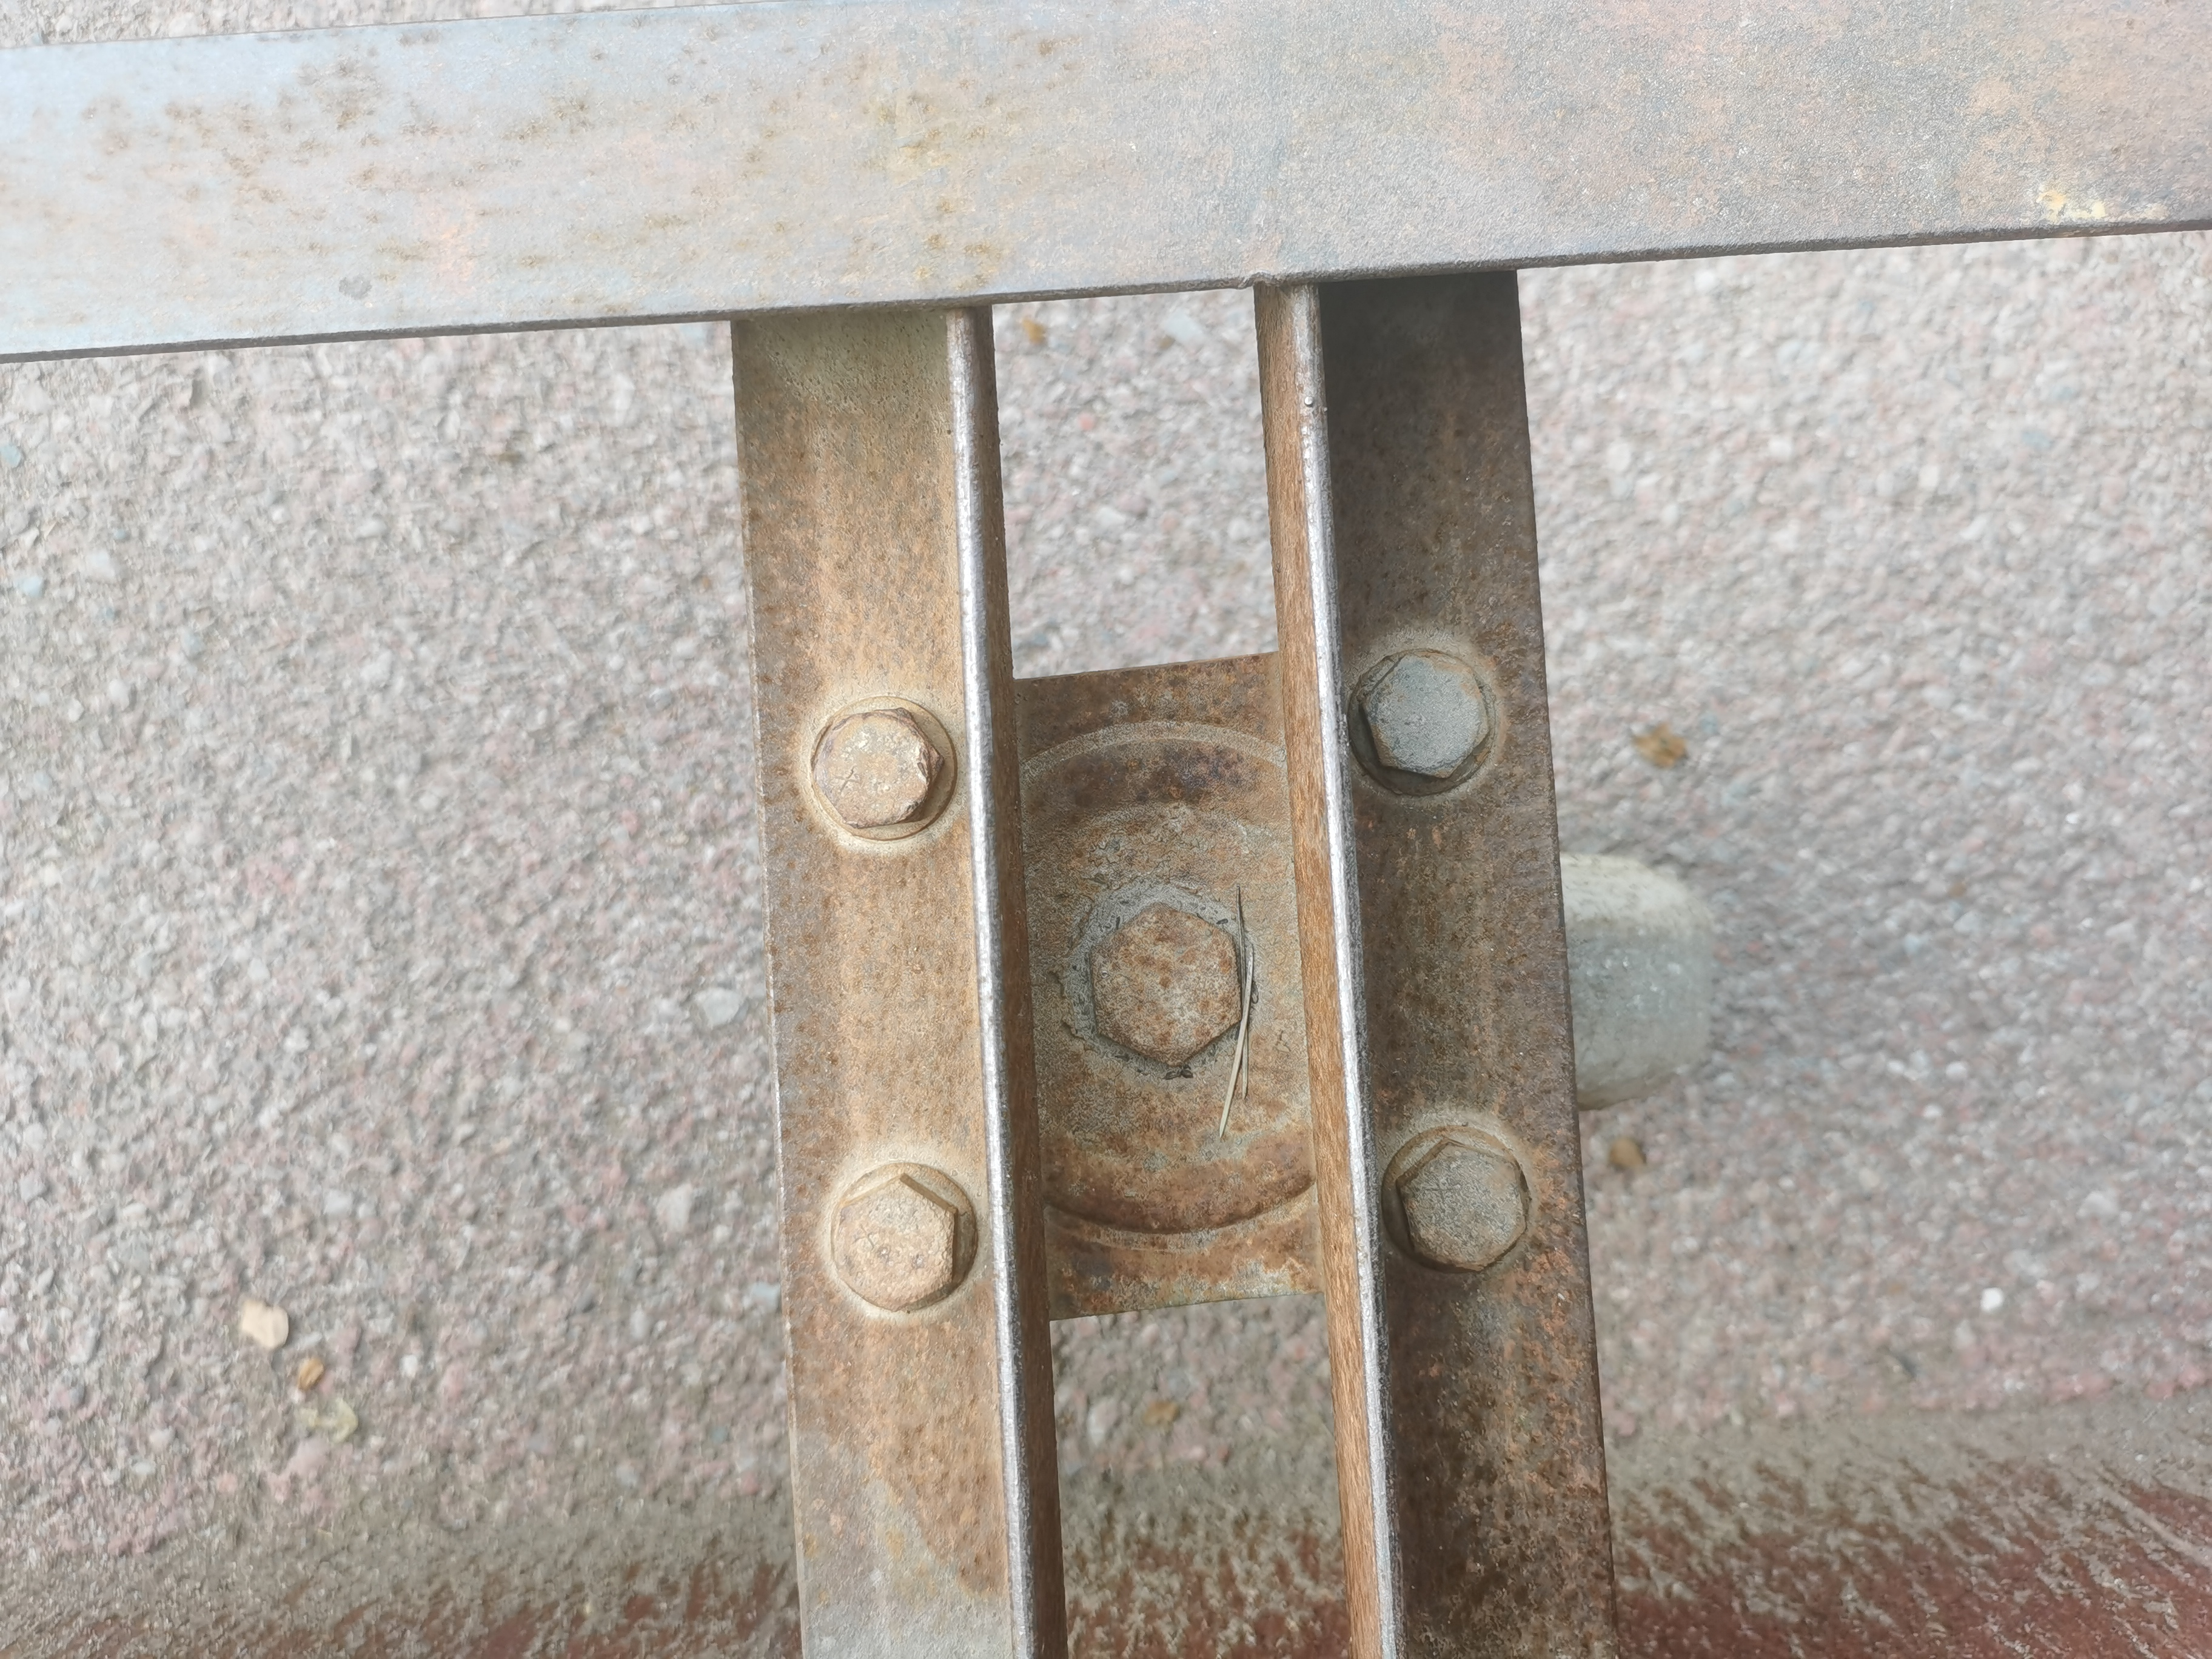bolt_a: (1087, 901, 1245, 1070), (1392, 1136, 1529, 1276), (831, 1171, 963, 1314), (1360, 652, 1491, 782), (810, 706, 944, 833)
